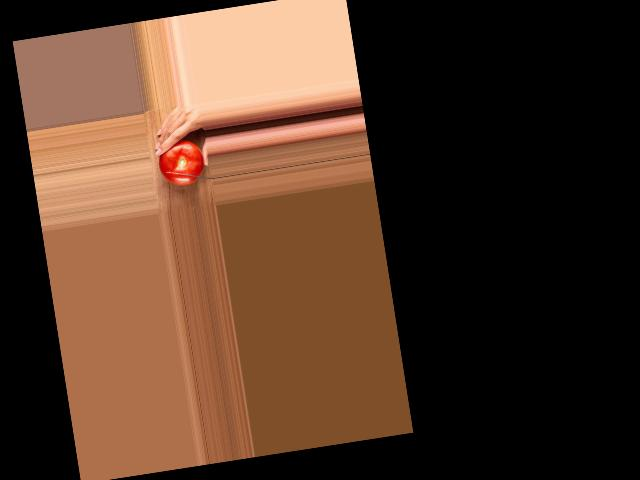tomato: (156, 137, 206, 188)
